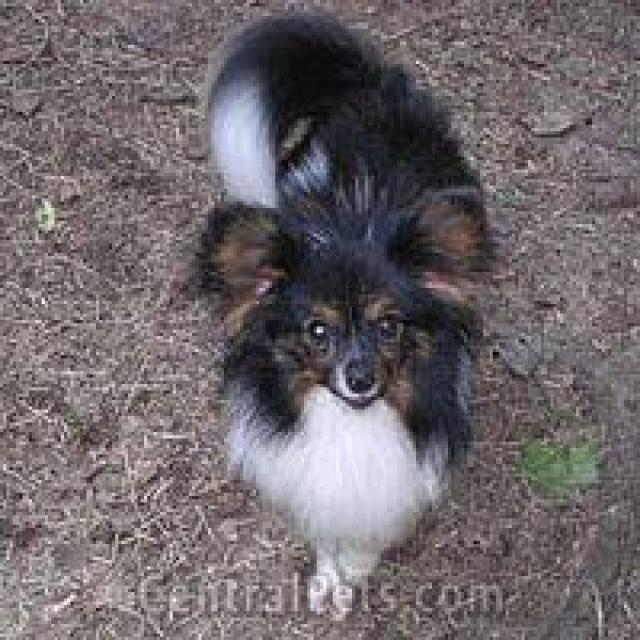papillon: (182, 6, 496, 624)
